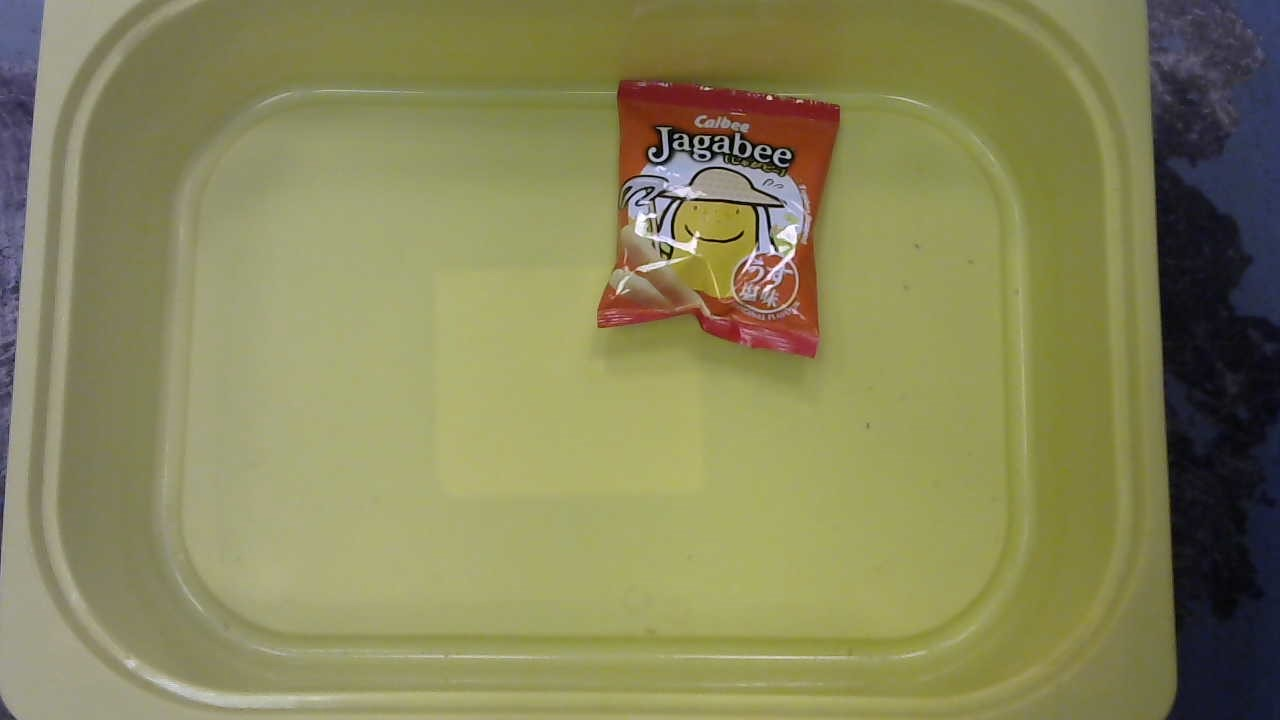JagabeeFarmer: (598, 72, 837, 362)
